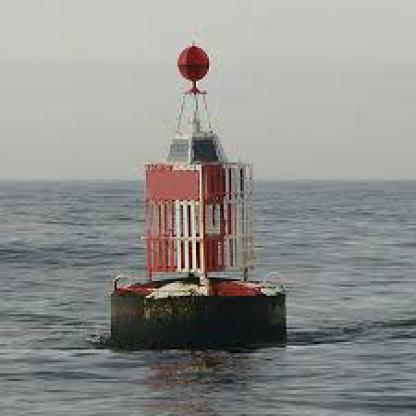buoy: (100, 27, 296, 361)
